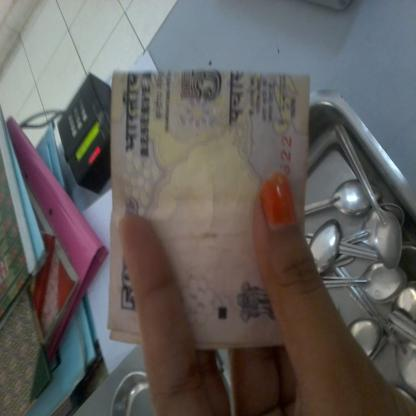Old50Front: (108, 69, 312, 350)
